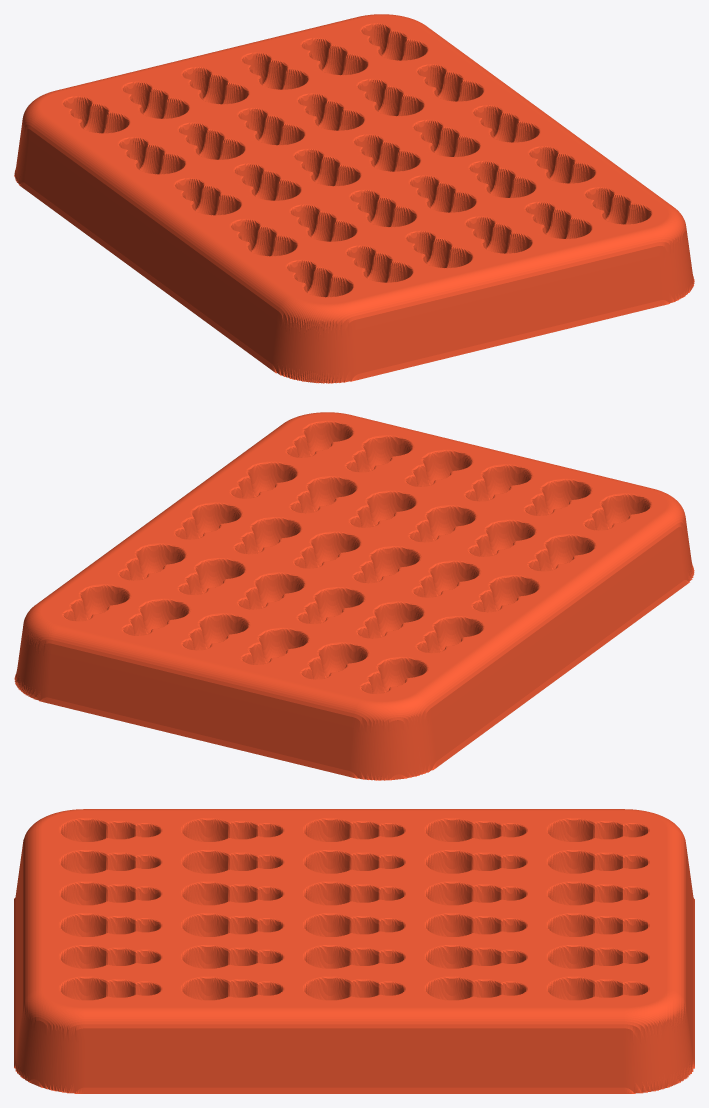
File: mold.glb
The picture shows the model from 3 angles, top to bottom: view 1: azimuth 30°, elevation 25°; view 2: azimuth 150°, elevation 25°; view 3: azimuth 270°, elevation 25°; orthographic projection. The views are drawn at different scales.
Parts seen in each view (by area): view 1: geometry_0; view 2: geometry_0; view 3: geometry_0.
Boxes of the visible parts, x1,y1,x2,y2 form: geometry_0: [14, 14, 694, 383]; geometry_0: [14, 412, 694, 780]; geometry_0: [14, 809, 694, 1093].
Bounding box in the file's own units: 0.0668 × 0.0105 × 0.0872.
